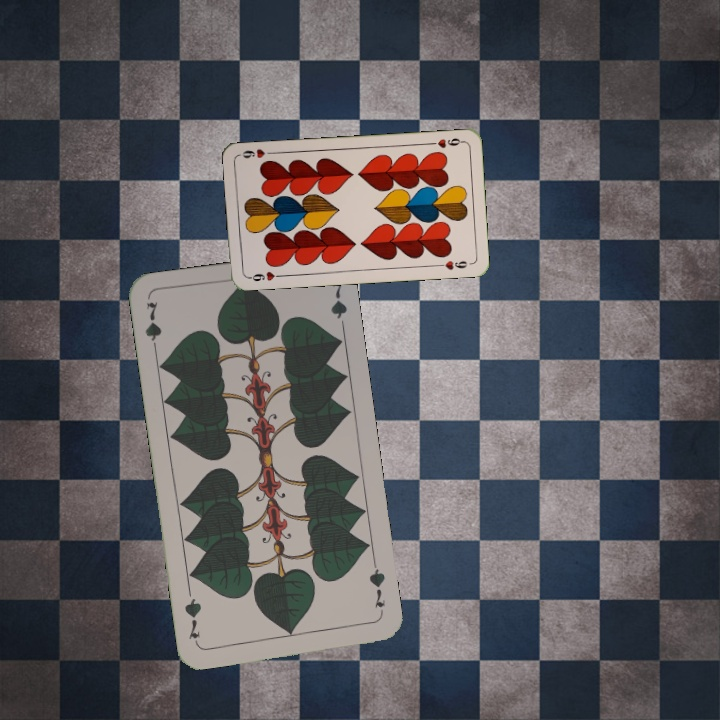G7: (365, 559, 388, 619), (141, 298, 164, 357)
H9: (244, 267, 285, 284), (425, 134, 466, 150)
